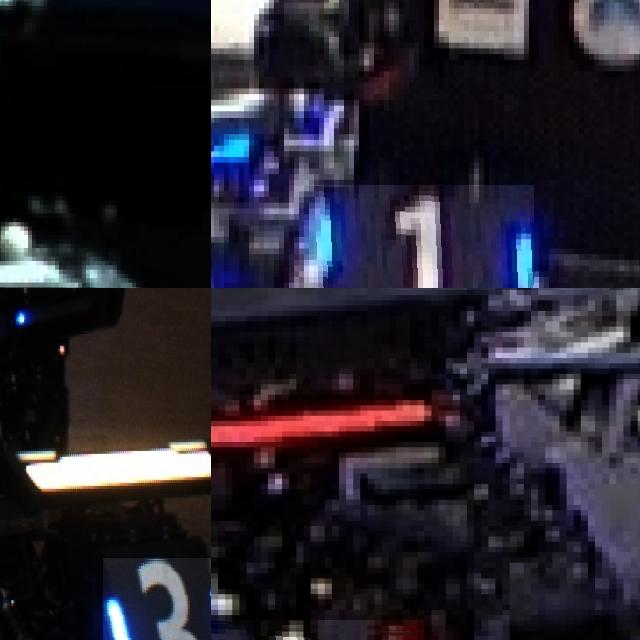B1: (309, 185, 534, 288)
B3: (102, 557, 211, 640)
R1: (211, 620, 424, 640)
